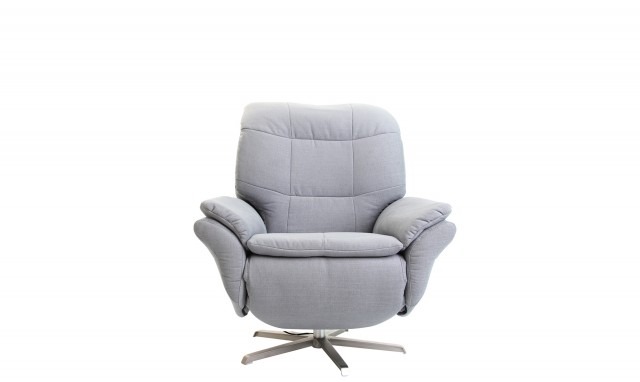chairs: (185, 88, 463, 382)
